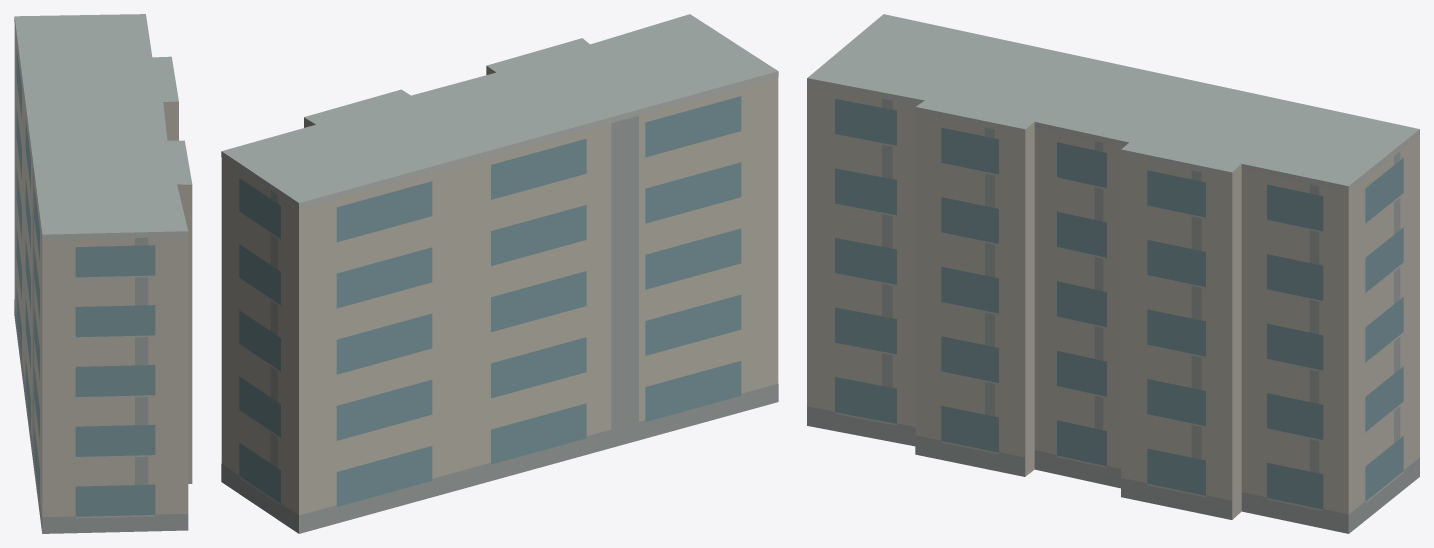
Rendered from survey-upis-32912687.glb.
3 views of the same model, side by side, from view 1: azimuth 30°, elevation 25°; view 2: azimuth 150°, elevation 25°; view 3: azimuth 270°, elevation 25° (orthographic). The views are drawn at different scales.
Visible parts, largest first — view 1: survey-upis-32912687.tmp; view 2: survey-upis-32912687.tmp; view 3: survey-upis-32912687.tmp.
Boxes of the visible parts, <box> form: survey-upis-32912687.tmp: <box>14,14,192,533</box>; survey-upis-32912687.tmp: <box>221,14,778,533</box>; survey-upis-32912687.tmp: <box>807,14,1419,533</box>.
Size of the model in its own units: 14.08 by 13.25 by 21.17.
